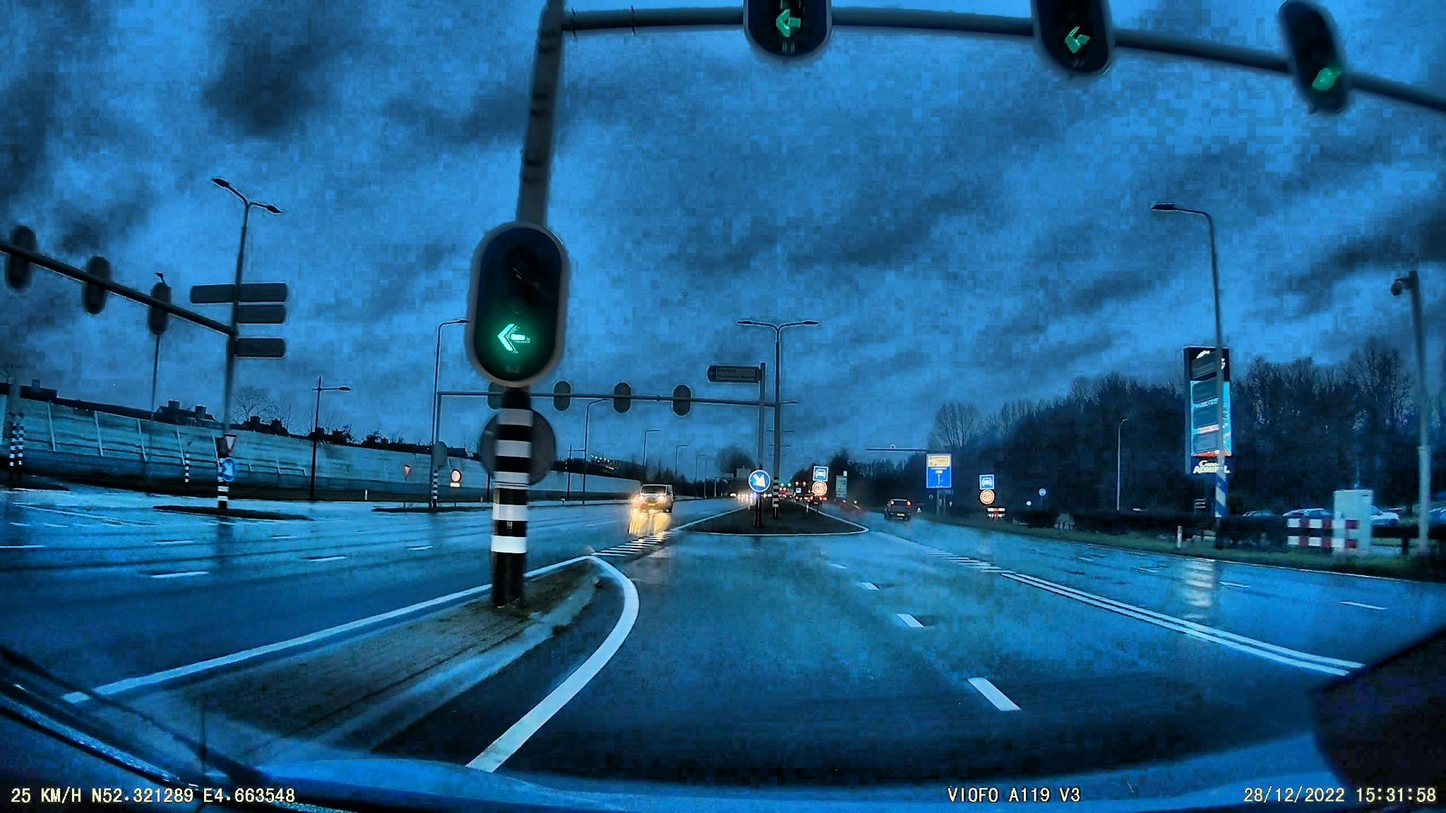Roads: (502, 500, 1446, 785), (0, 490, 492, 685)
